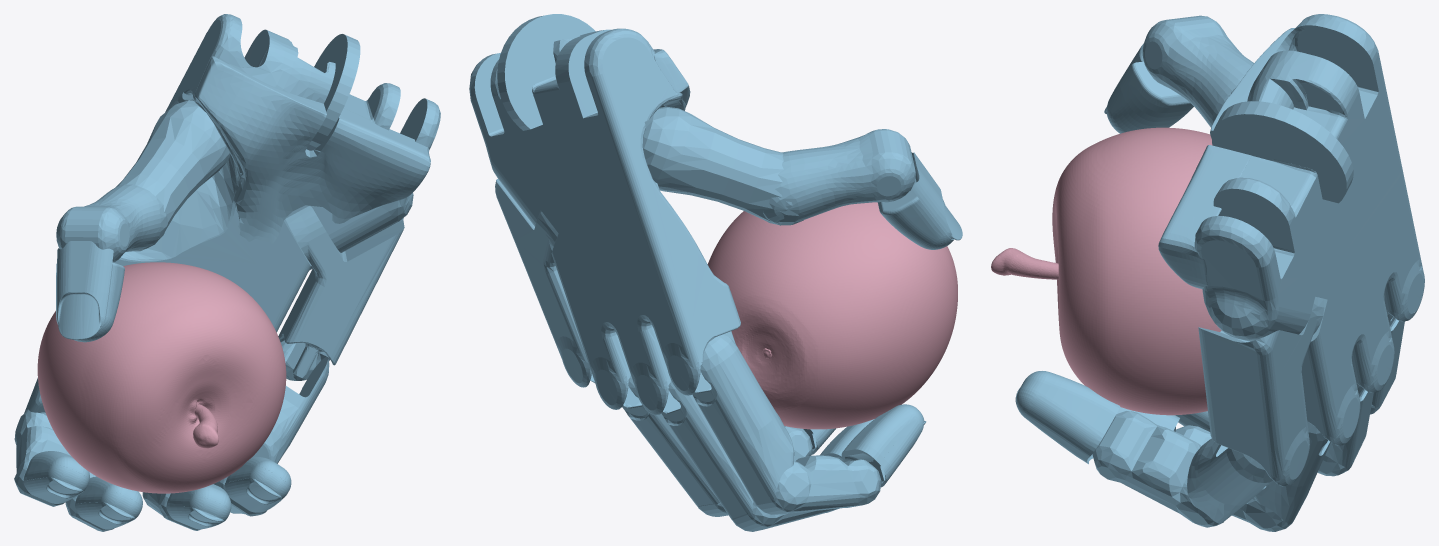
3 renders of one model, left to right at view 1: azimuth 30°, elevation 25°; view 2: azimuth 150°, elevation 25°; view 3: azimuth 270°, elevation 25°, orthographic. The views are drawn at different scales.
Visible parts, largest first — view 1: world; view 2: world; view 3: world.
Part boxes in pixels (<box>): world: <box>14,14,440,531</box>; world: <box>469,14,962,531</box>; world: <box>991,14,1424,531</box>.
Bounding box in the file's own units: 0.1546 × 0.1631 × 0.1152.
